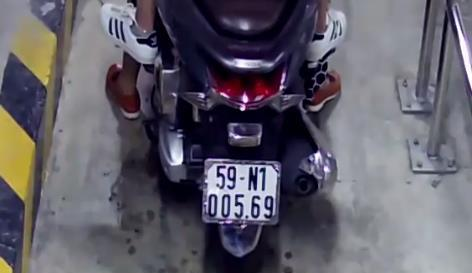lisence: (202, 158, 280, 226)
